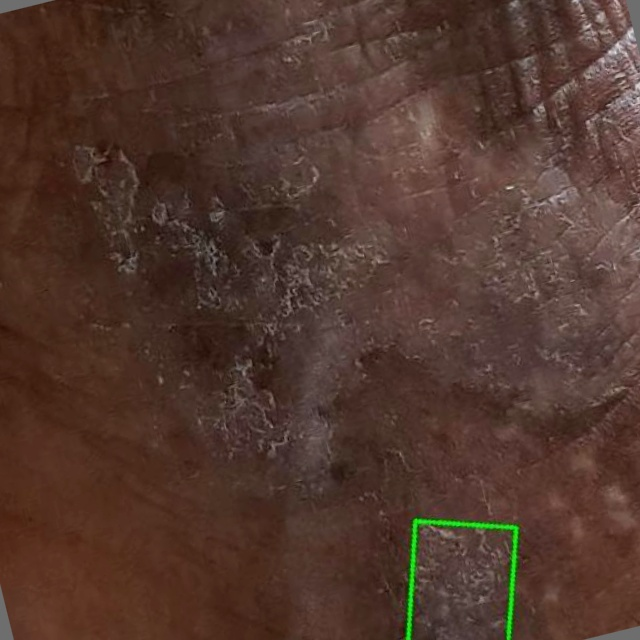Eczema: (407, 521, 515, 639)
